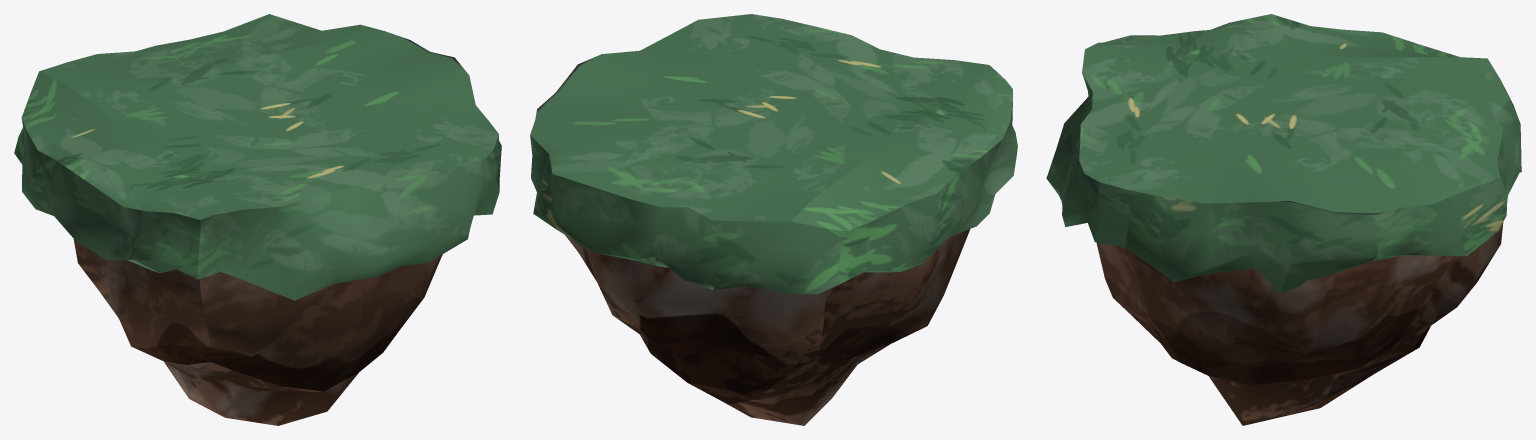
Rendered from Terreno_Smol.fbx.
3 views of the same model, side by side, from view 1: azimuth 30°, elevation 25°; view 2: azimuth 150°, elevation 25°; view 3: azimuth 270°, elevation 25° (orthographic).
Visible parts, largest first — view 1: pCube24, pCube25; view 2: pCube24, pCube25; view 3: pCube24, pCube25.
Part boxes in pixels (x1,y1,x2,y2): pCube24: [14, 14, 501, 300]; pCube25: [73, 239, 442, 425]; pCube24: [530, 14, 1017, 294]; pCube25: [565, 229, 970, 425]; pCube24: [1046, 14, 1521, 293]; pCube25: [1096, 222, 1503, 425].
Size of the model in its own units: 31.15 by 22.66 by 31.91.
